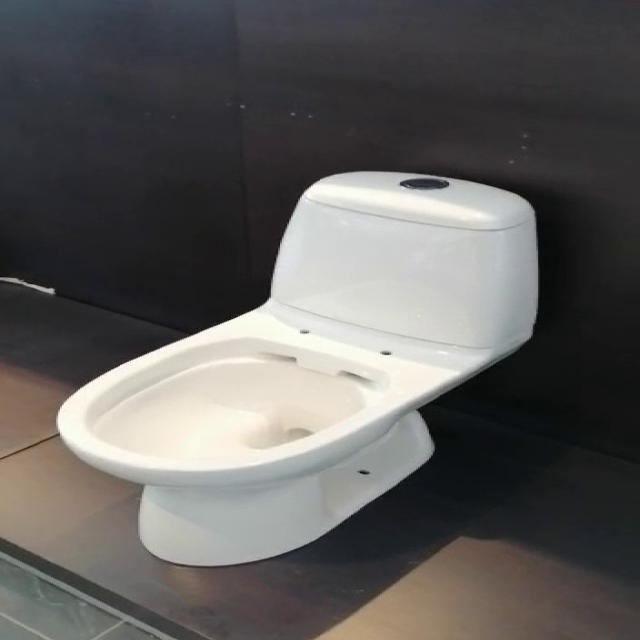toilet: (55, 169, 540, 566)
